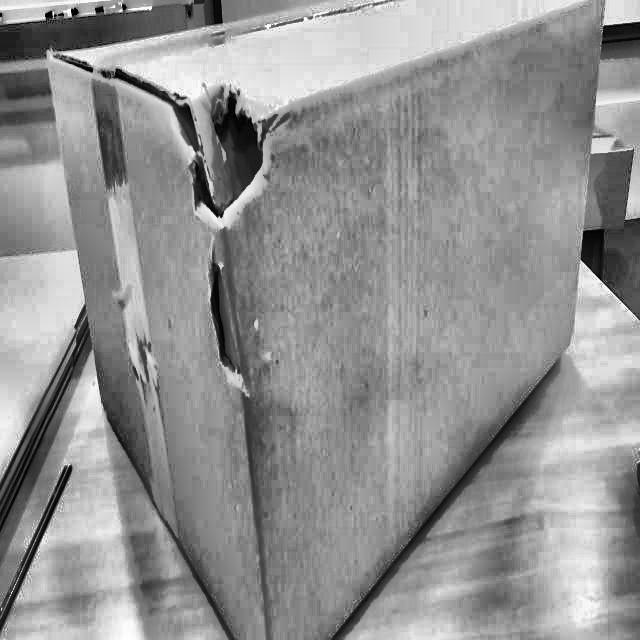box: (38, 0, 610, 639)
hole: (168, 81, 275, 229), (206, 254, 247, 399)
